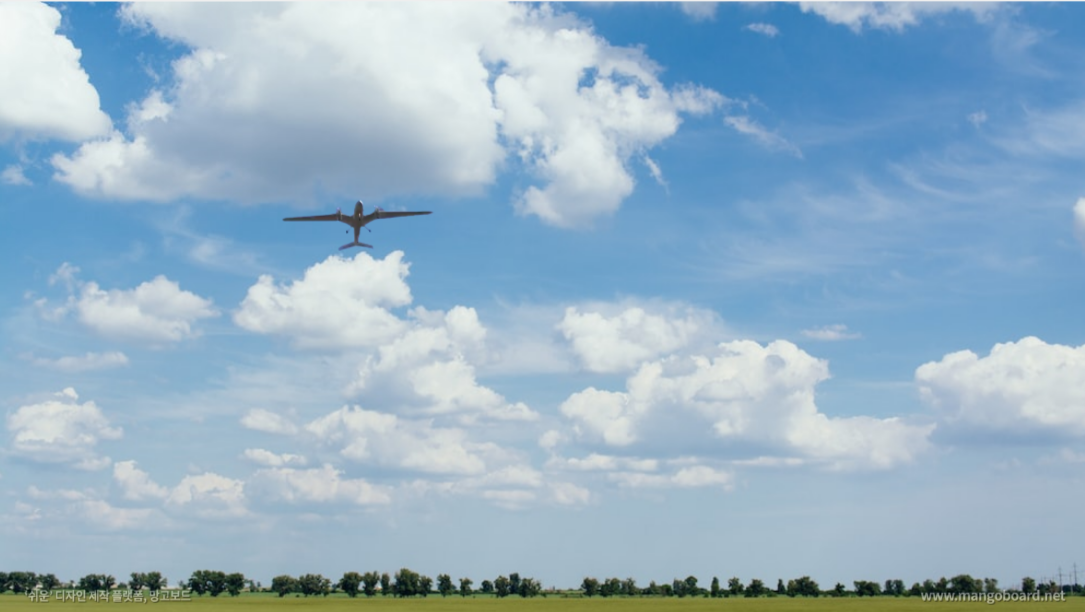military drone: (282, 200, 433, 251)
